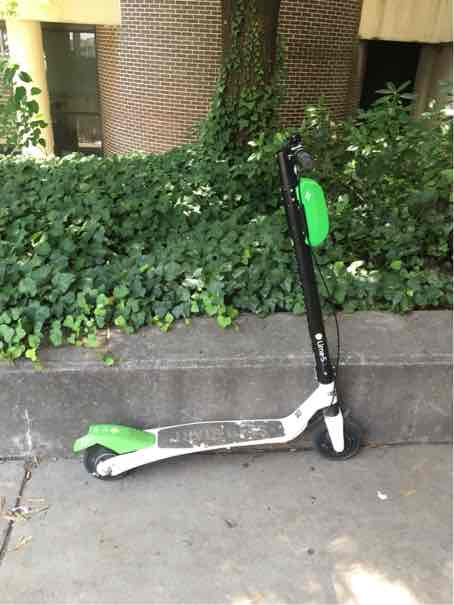scooter: (71, 112, 350, 489)
